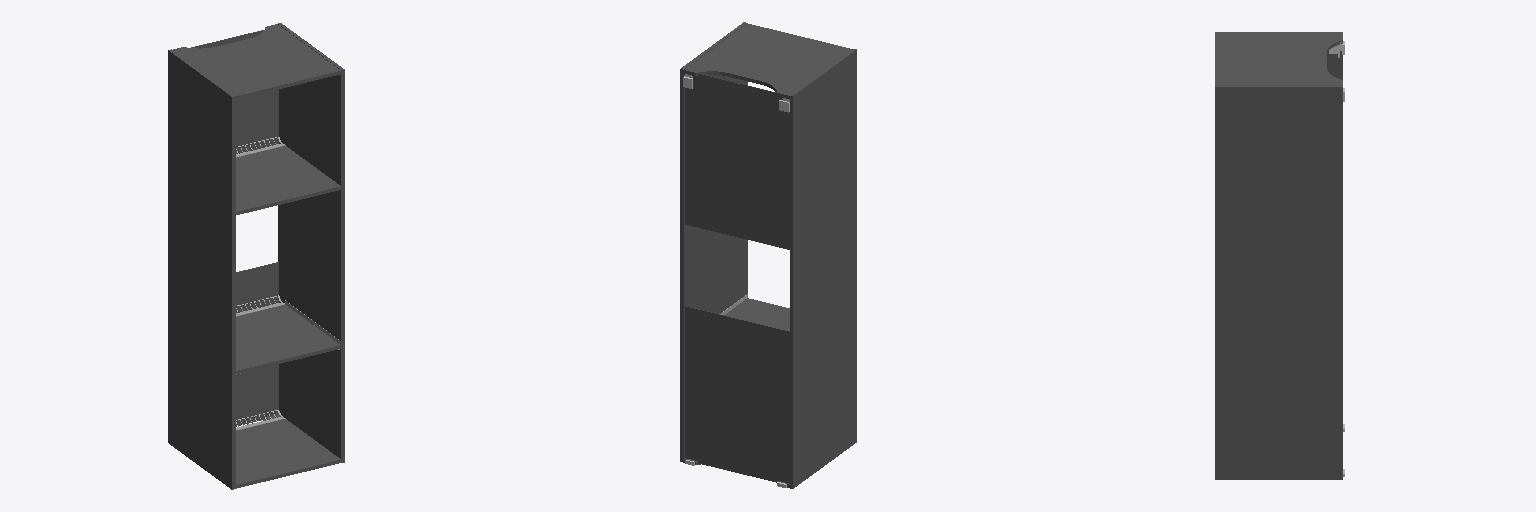
File: IKEA.ART.90213568.obj
3 renders of one model, left to right at view 1: azimuth 30°, elevation 25°; view 2: azimuth 150°, elevation 25°; view 3: azimuth 270°, elevation 25°, orthographic.
Parts seen in each view (by area): view 1: model_model.043; view 2: model_model.043; view 3: model_model.043.
Part boxes in pixels (bbox=[...]): model_model.043: bbox=[168, 23, 344, 489]; model_model.043: bbox=[680, 22, 856, 488]; model_model.043: bbox=[1215, 32, 1344, 479].
Size of the model in its own units: 0.6 by 2 by 0.6.